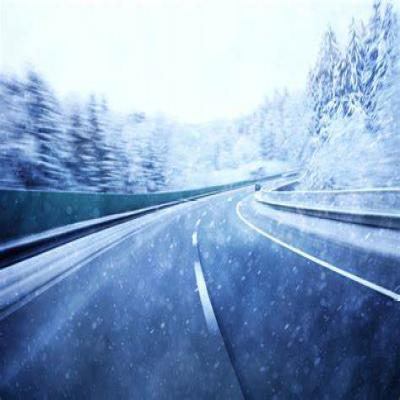iced-road: (0, 201, 400, 400), (247, 211, 400, 293)
